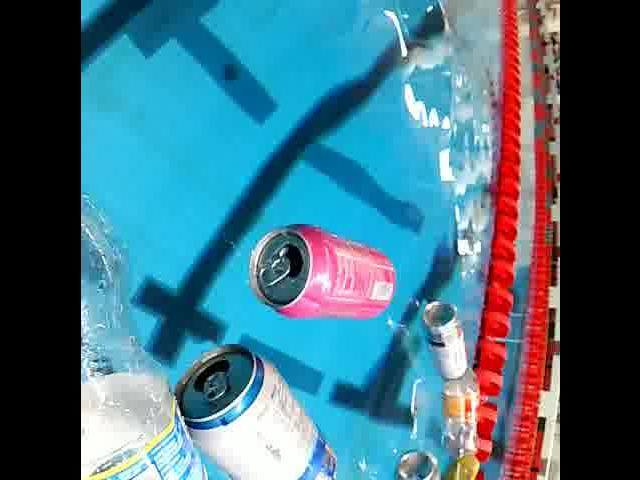Bottle: (80, 184, 224, 480), (439, 360, 484, 468)
Can: (167, 337, 343, 480), (244, 220, 398, 326), (422, 296, 467, 382), (393, 444, 445, 480), (437, 452, 481, 480)
